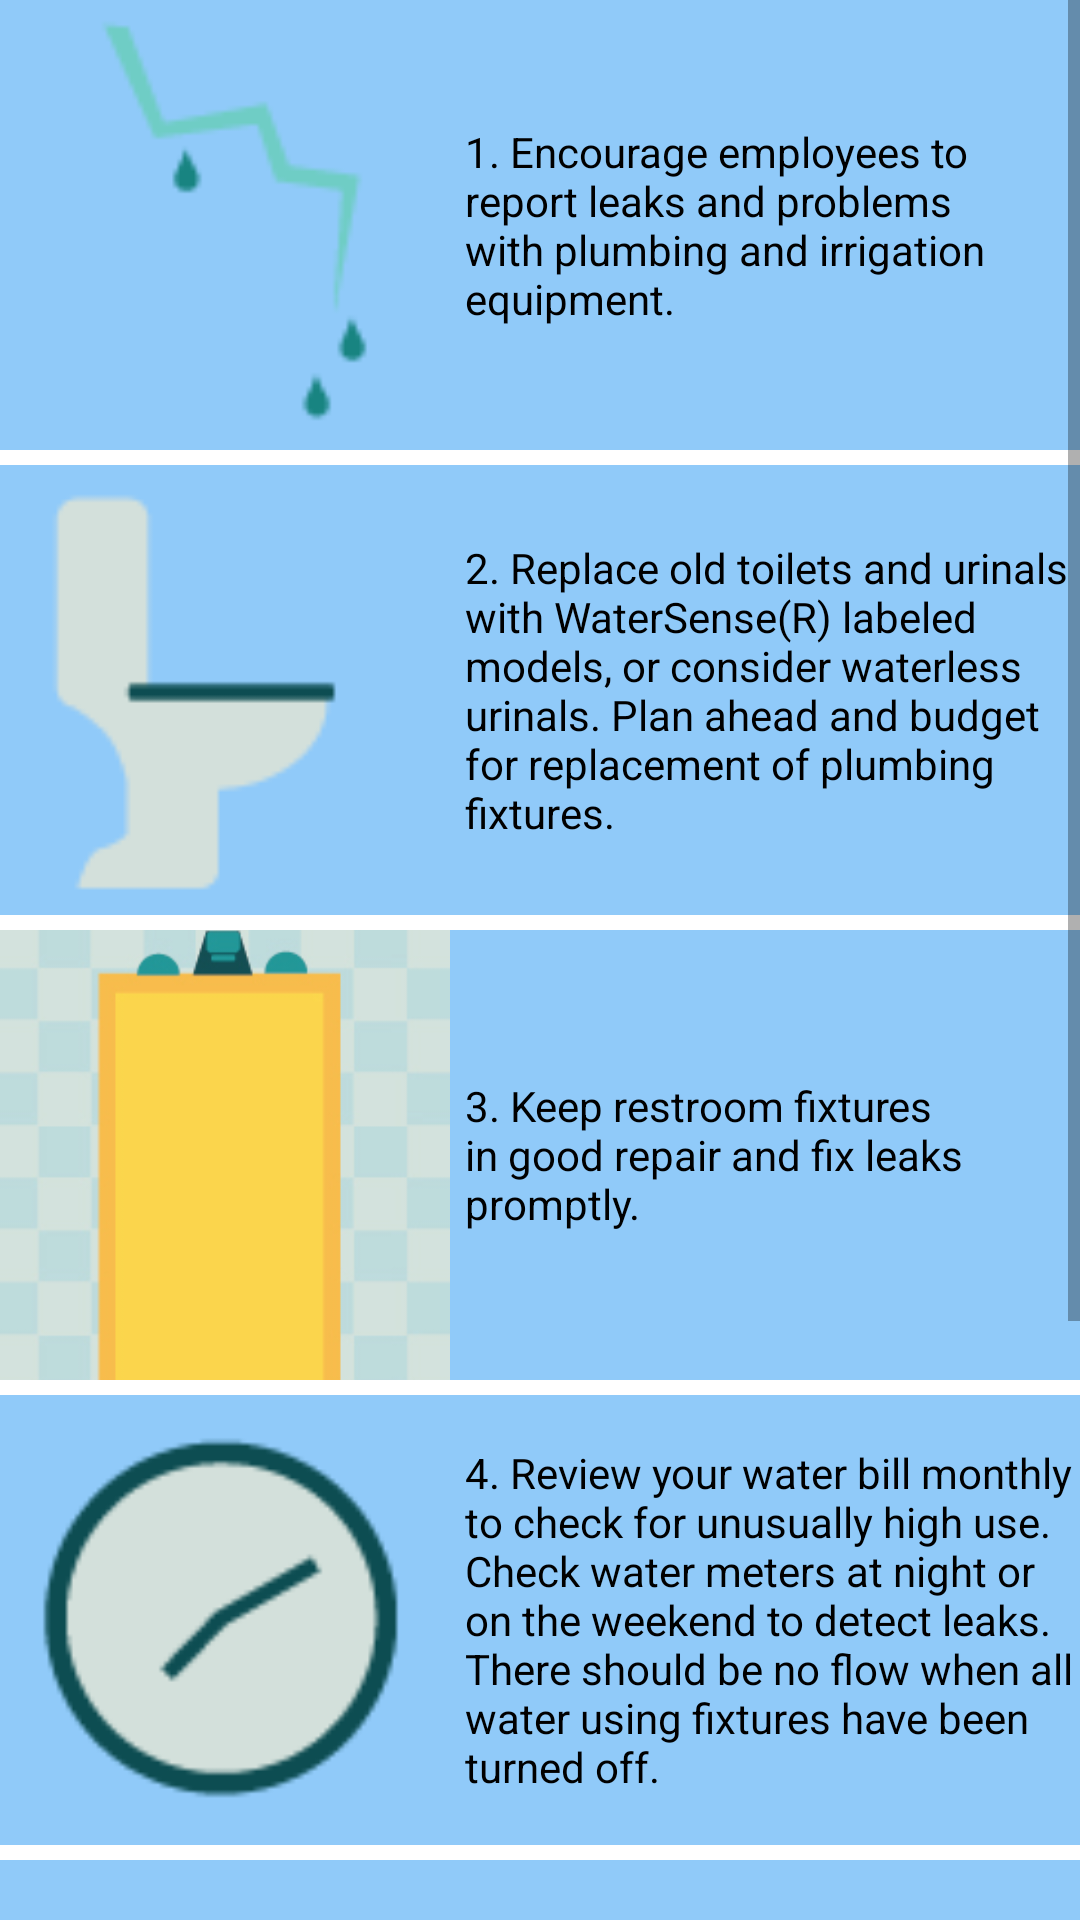

Screen size 1080*1920. Icon name, then its center in pixels as [x,y]:
clock: [220,1618]
